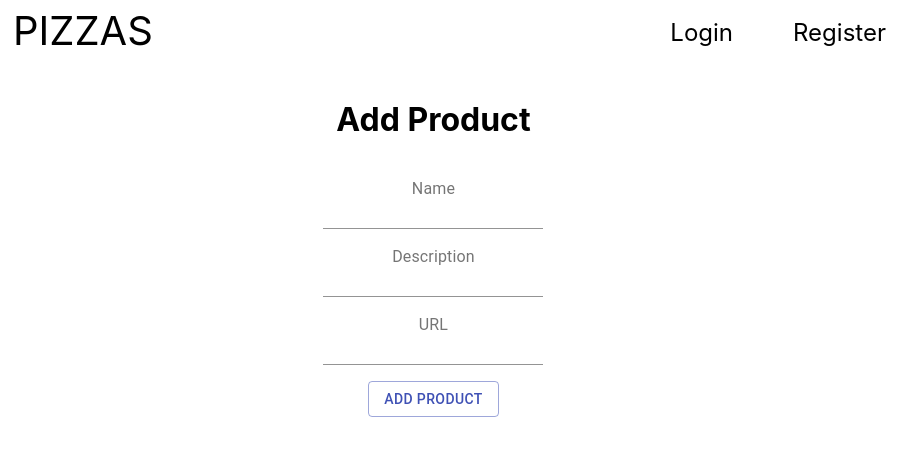
Scenario: Tests main functionalities › test add product with invalid name
Type "E" into the field labelled "Name".
click(434, 213); type("E")  # box [324,197,544,229]
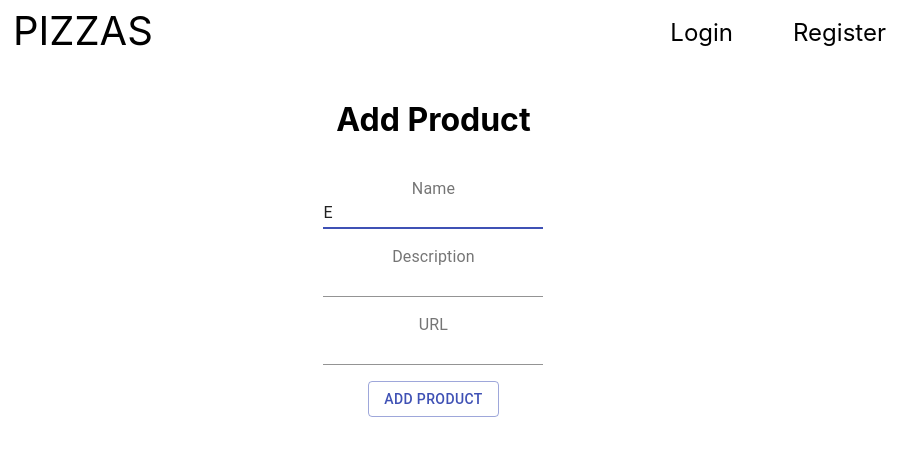
Type "Example ProductExample ProductExample ProductExample ProductExample Product" into the field labelled "Description".
click(434, 281); type("Example ProductExample ProductExample ProductExample ProductExample Product")  # box [324,265,544,297]
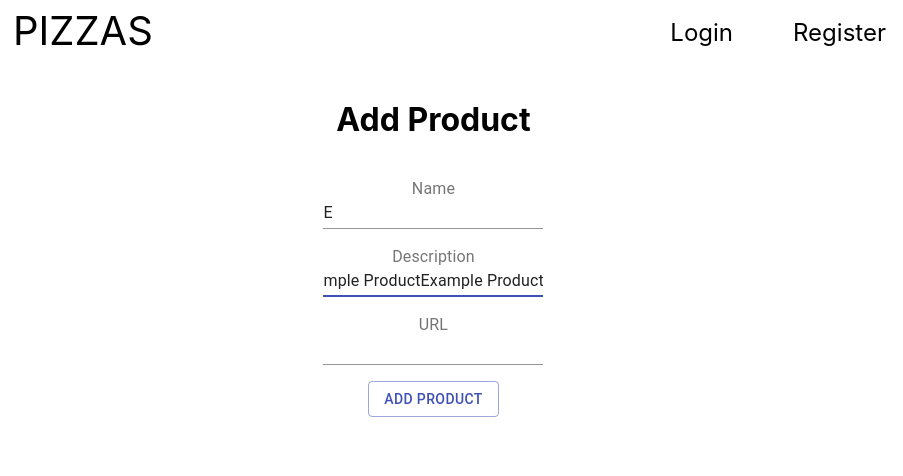
Type "https://pizza.png" into the field labelled "URL".
click(434, 349); type("https://pizza.png")  # box [324,333,544,365]
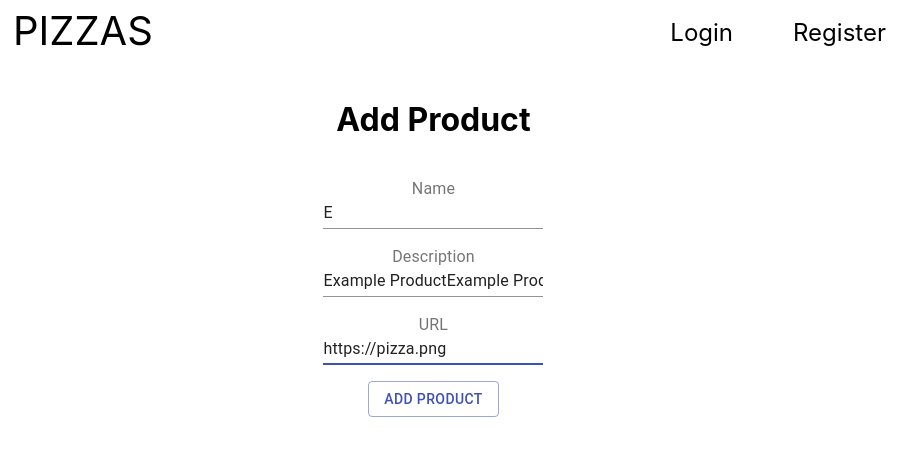
Submit the form, box [324,179,544,418]
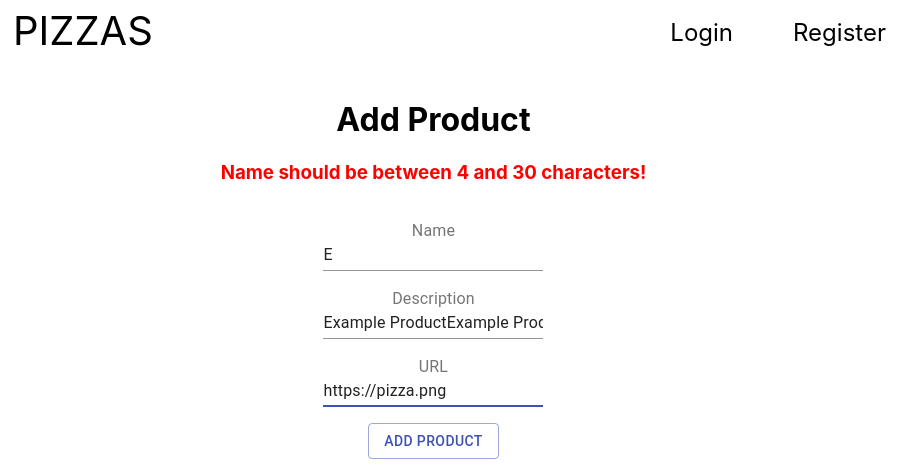
expect the heading "Name should be between 4 and 30 characters!" is shown: met, box [221,161,646,184]
